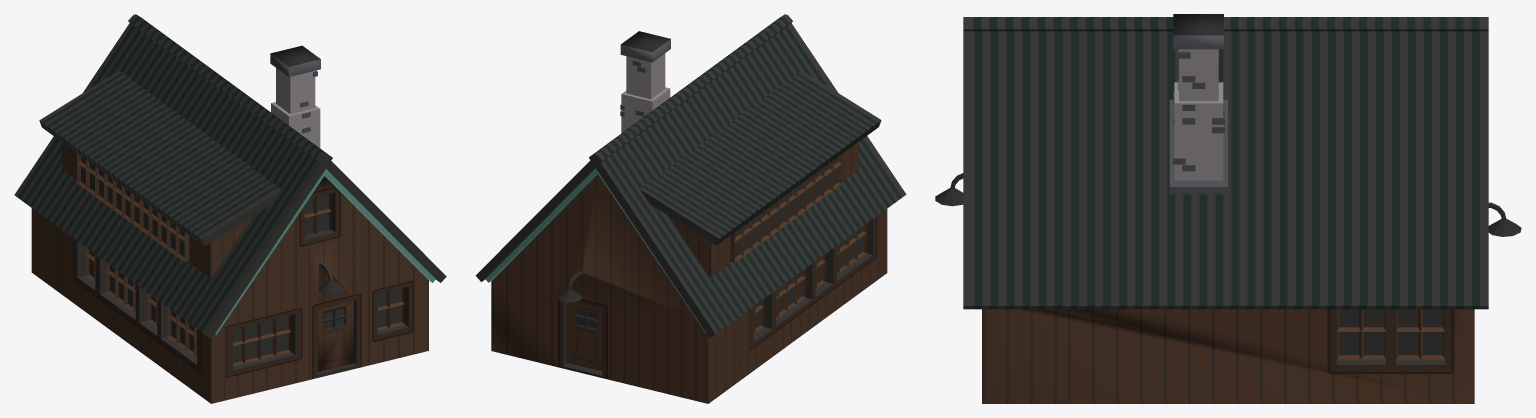
The model's file is decimatedCabin0.9.glb.
The picture shows the model from 3 angles, left to right: view 1: azimuth 30°, elevation 25°; view 2: azimuth 150°, elevation 25°; view 3: azimuth 270°, elevation 25°; orthographic projection. The views are drawn at different scales.
Parts seen in each view (by area): view 1: Cabin.000; view 2: Cabin.000; view 3: Cabin.000.
Boxes of the visible parts, x1=… form: Cabin.000: x1=14, y1=14, x2=446, y2=403; Cabin.000: x1=475, y1=14, x2=906, y2=403; Cabin.000: x1=935, y1=14, x2=1521, y2=403.
Size of the model in its own units: 0.1219 by 0.1208 by 0.1873.
1 material, 1 textured.
